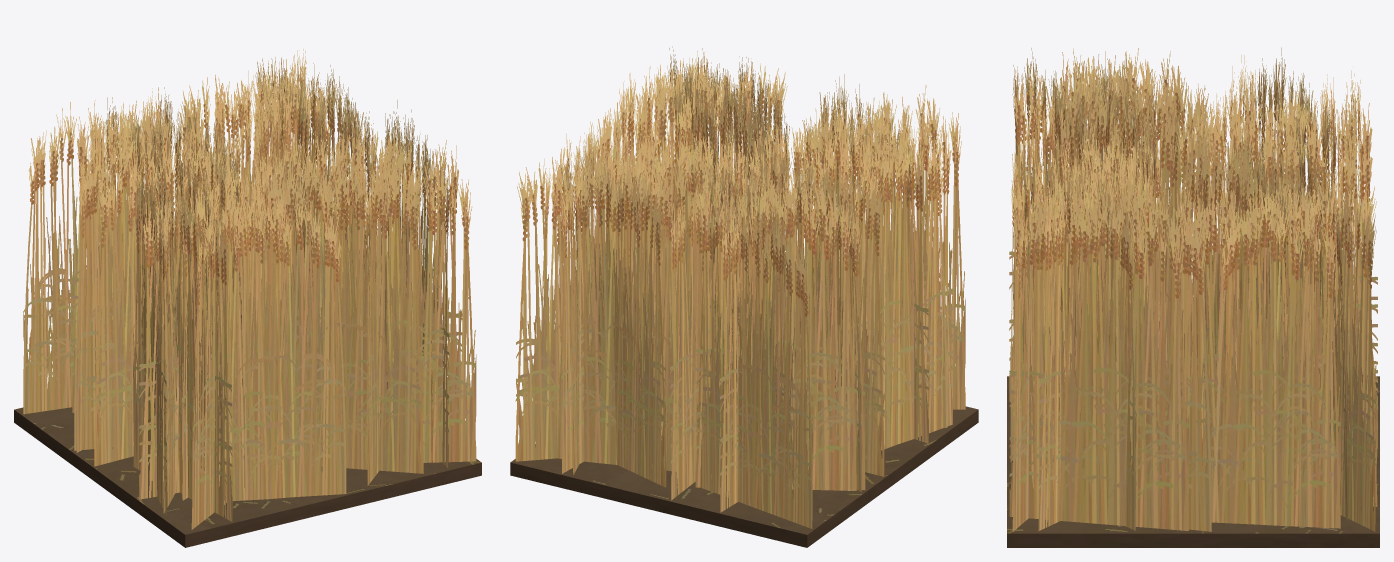
File: wheat_mature.glb
The picture shows the model from 3 angles, left to right: view 1: azimuth 30°, elevation 25°; view 2: azimuth 150°, elevation 25°; view 3: azimuth 270°, elevation 25°; orthographic projection. The views are drawn at different scales.
Parts seen in each view (by area): view 1: crop_xneg_zpos, crop_xpos_zpos, crop_xneg_zneg, crop_xpos_zneg, soil; view 2: crop_xneg_zneg, crop_xpos_zneg, crop_xneg_zpos, crop_xpos_zpos, soil; view 3: crop_xpos_zpos, crop_xpos_zneg, crop_xneg_zpos, crop_xneg_zneg, soil.
Part boxes in pixels (left/top/right/bottom): crop_xneg_zpos: left=133, top=139, right=346, bottom=529; crop_xpos_zpos: left=252, top=100, right=476, bottom=485; crop_xneg_zneg: left=23, top=87, right=239, bottom=466; crop_xpos_zneg: left=180, top=49, right=375, bottom=321; soil: left=14, top=407, right=481, bottom=547; crop_xneg_zneg: left=670, top=142, right=885, bottom=528; crop_xpos_zneg: left=515, top=111, right=745, bottom=487; crop_xneg_zpos: left=747, top=74, right=965, bottom=458; crop_xpos_zpos: left=595, top=46, right=789, bottom=301; soil: left=510, top=406, right=978, bottom=547; crop_xpos_zpos: left=1009, top=119, right=1211, bottom=531; crop_xpos_zneg: left=1177, top=126, right=1377, bottom=531; crop_xneg_zpos: left=1009, top=48, right=1210, bottom=461; crop_xneg_zneg: left=1175, top=47, right=1377, bottom=448; soil: left=1007, top=376, right=1379, bottom=547.
Bounding box in the file's own units: 1 × 1.13 × 1.
Materials: 2 (2 with a texture image).
